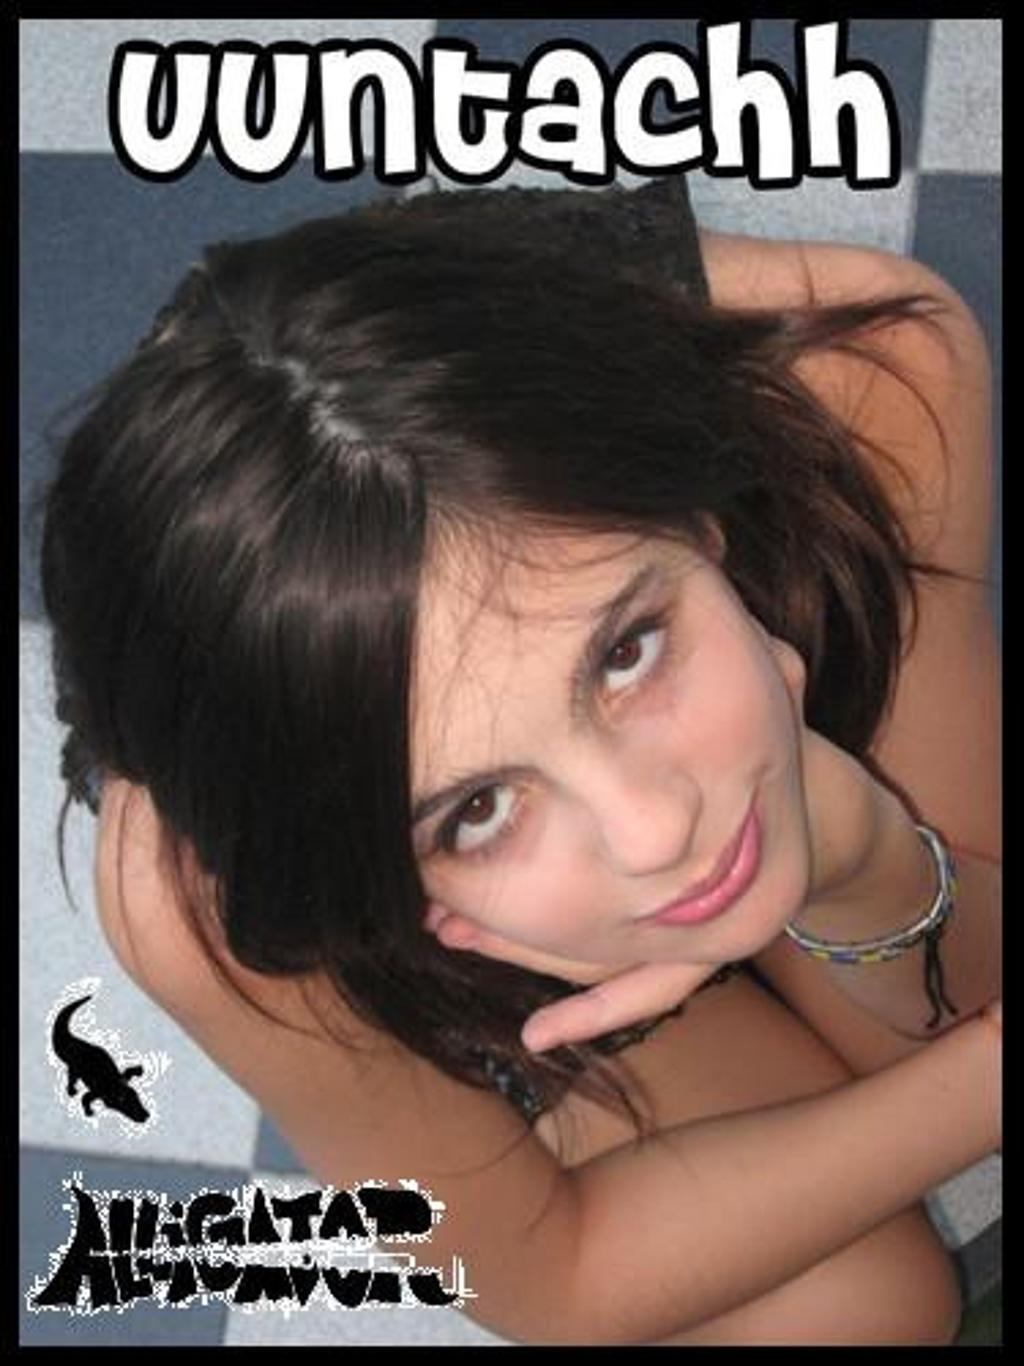face: (381, 520, 808, 965)
